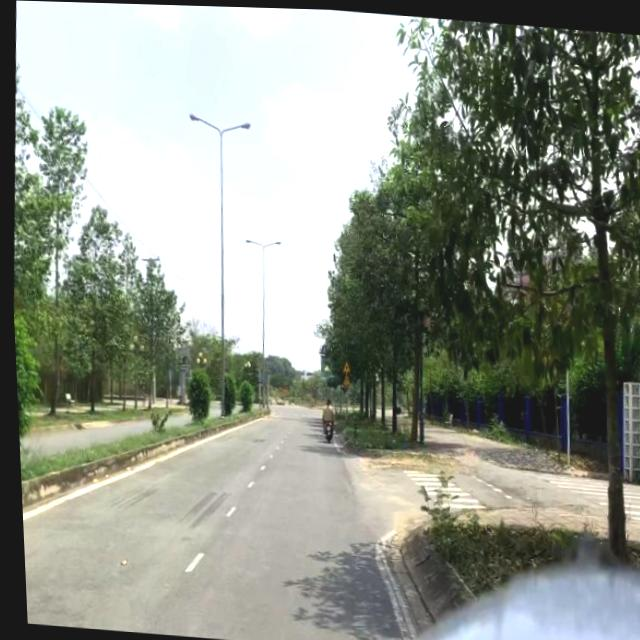Duong giao nhau cung cap: (338, 358, 348, 371)
Nguoi di bo cat ngang: (339, 371, 347, 384)
